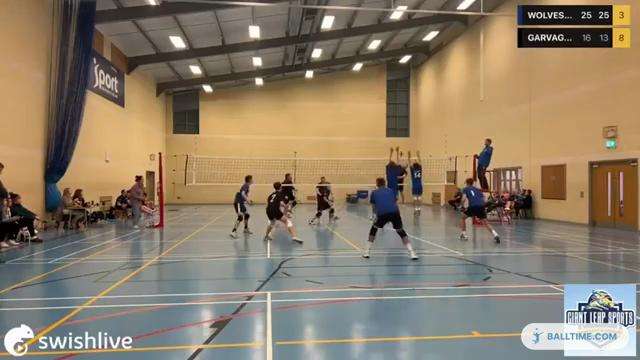Attack: (399, 151, 410, 195)
Block: (404, 146, 426, 218), (382, 145, 402, 204)
Player: (362, 178, 417, 259), (460, 178, 499, 242), (264, 182, 301, 243), (309, 176, 338, 224), (230, 175, 252, 237), (281, 173, 296, 209)
